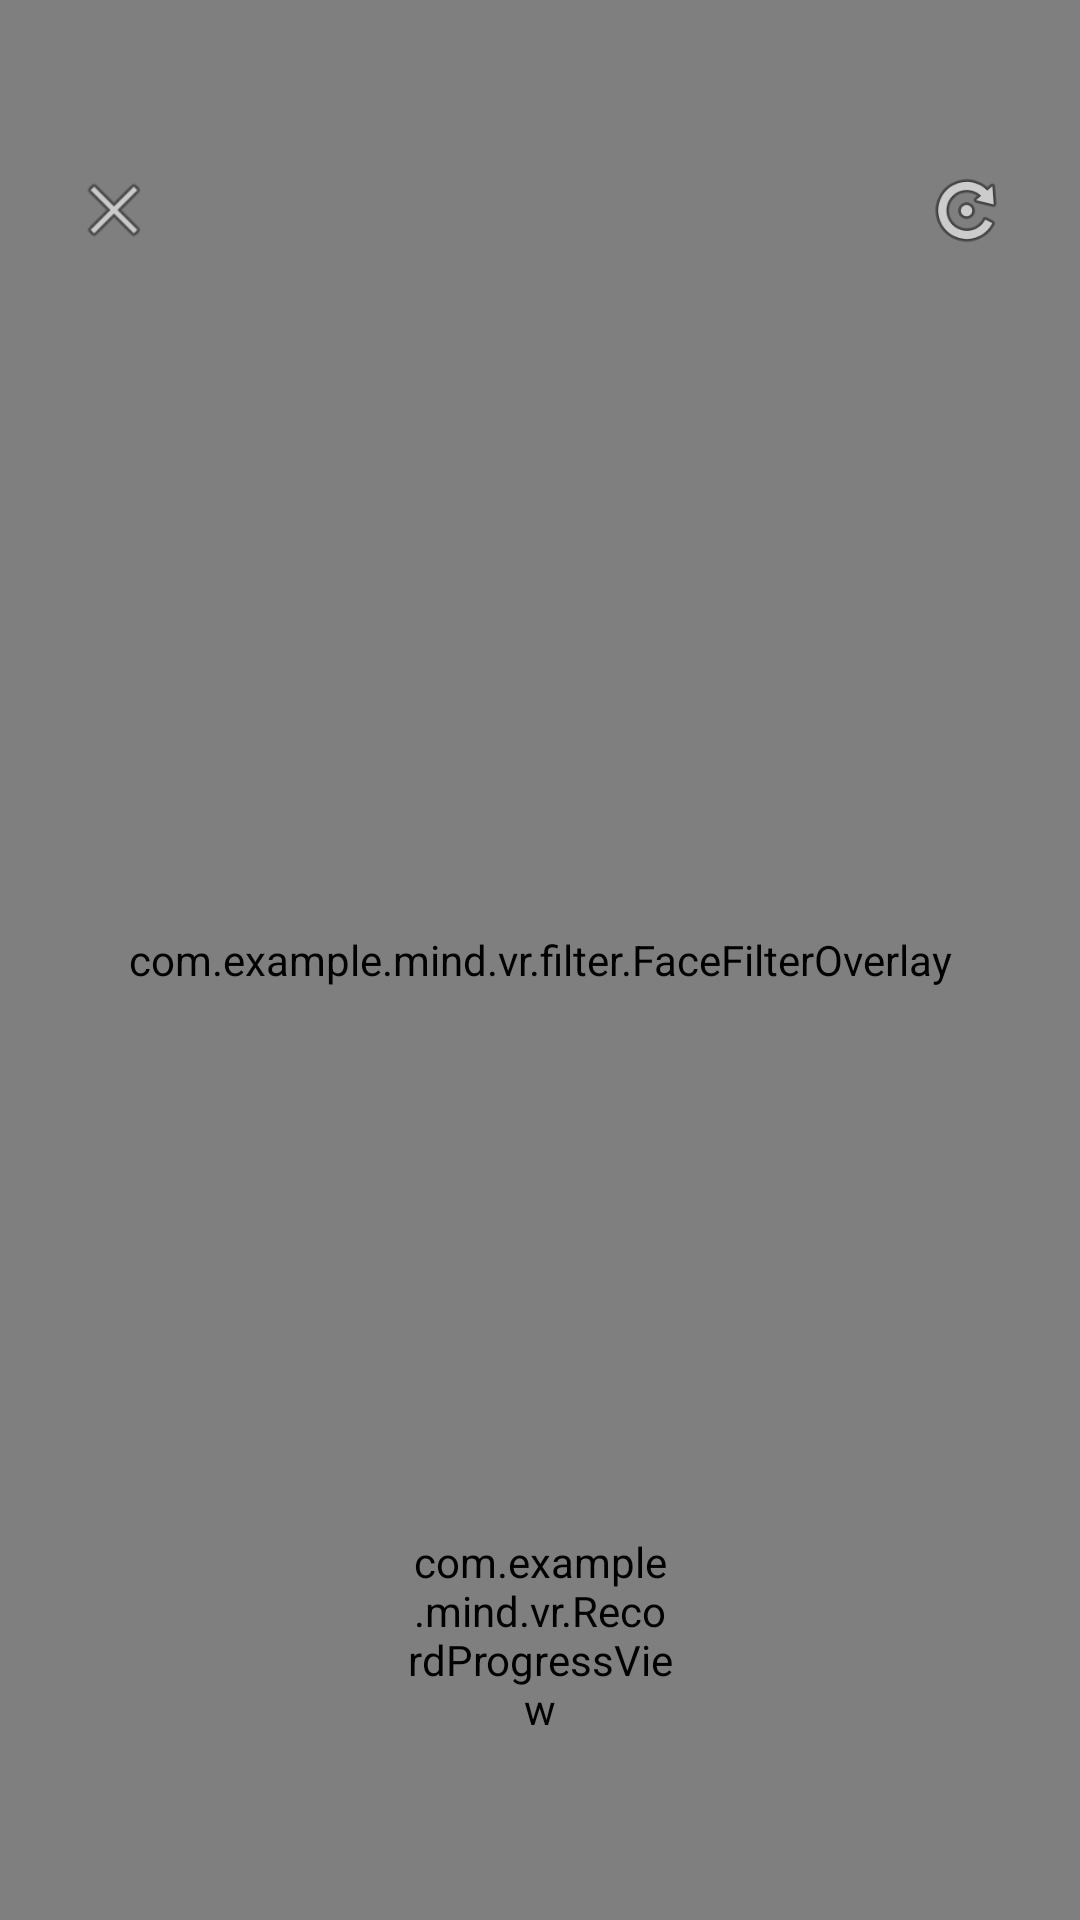

Icons on this 1080×1920 Android screen, each with the point to tap as (x,y):
close clear cancel: (114,210)
rotate: (966,210)
